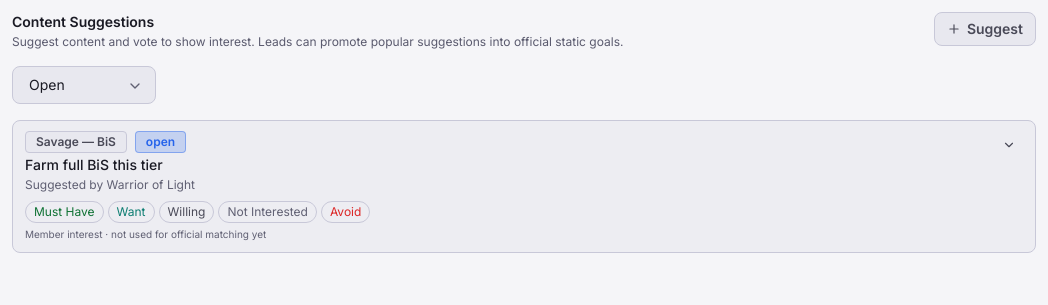
Test: ContentSuggestionsPanel › reveals description after clicking expand
Click the button named "Expand details" at (1009, 145), box [995, 131, 1023, 159]
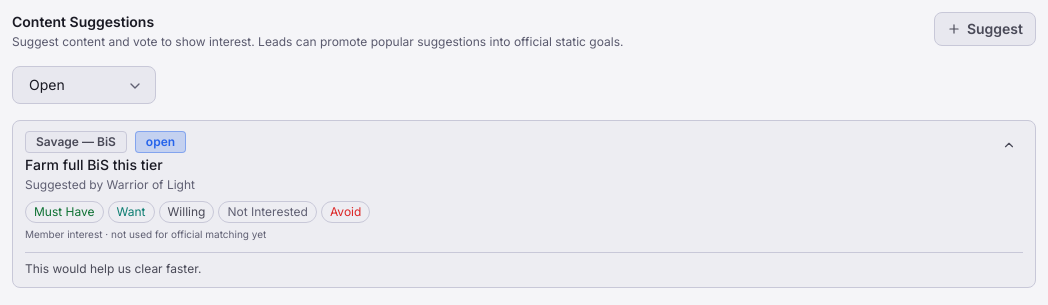
Result: the text "This would help us clear faster." is shown at [25, 252, 1023, 277]
